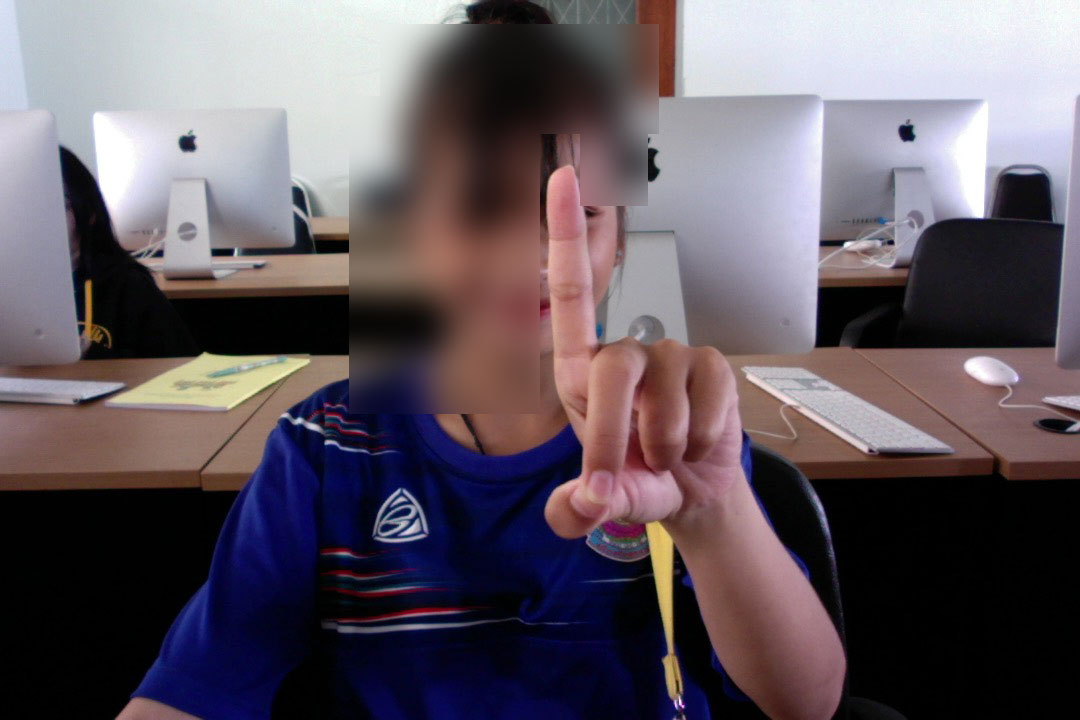dor: (535, 153, 760, 552)
